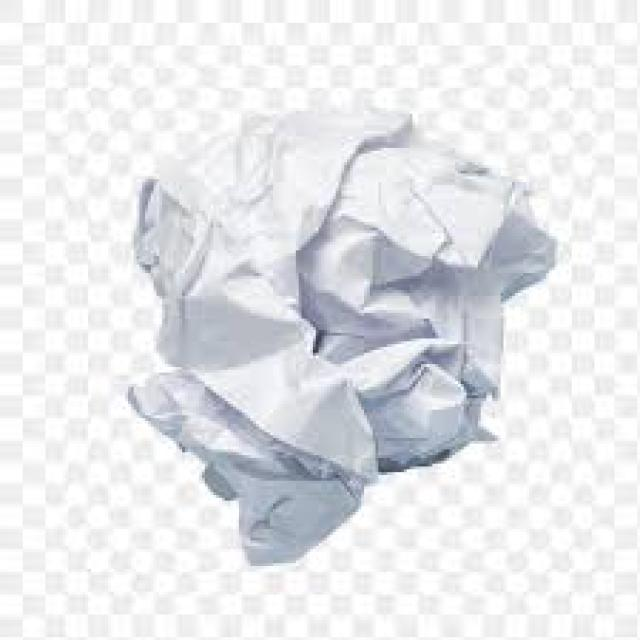crampled paper: (130, 116, 554, 563)
